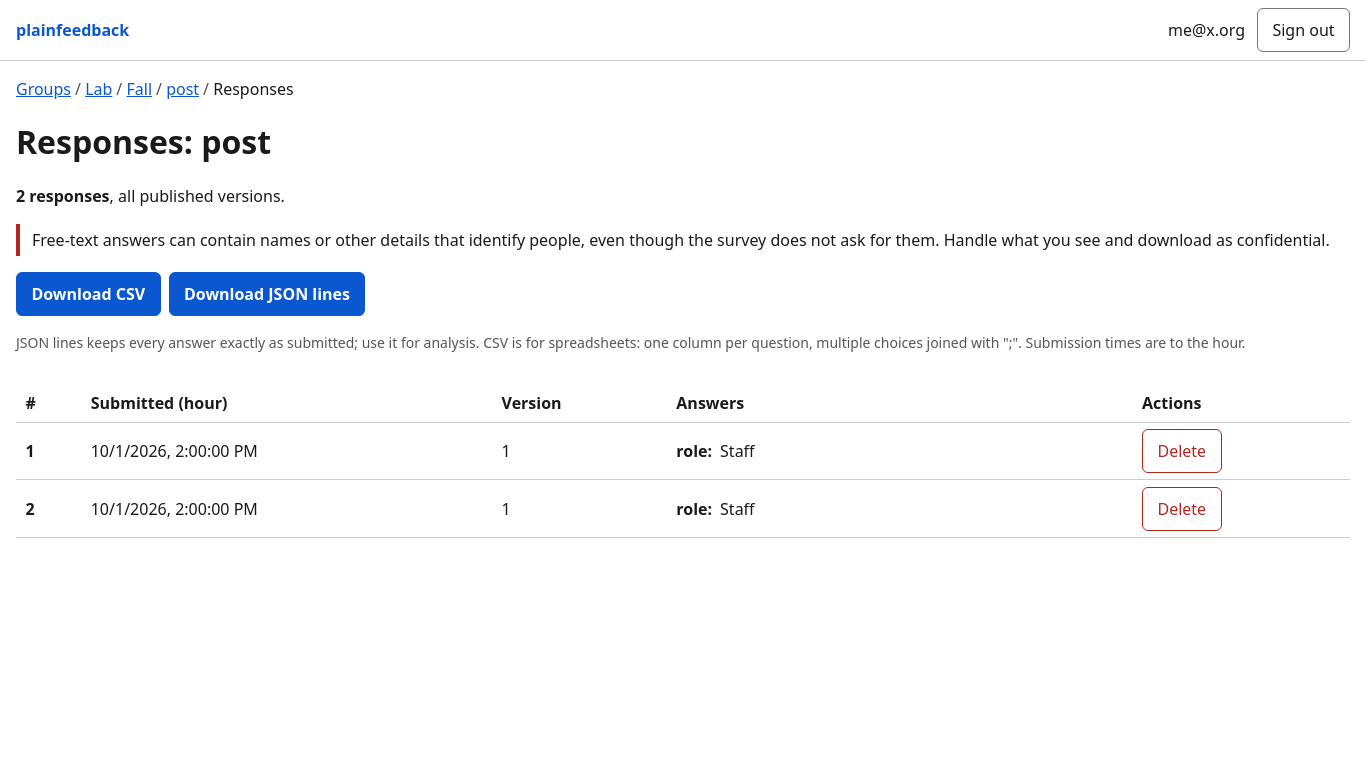
responses page (#50) › an owner deletes one response after confirming
This screenshot has width=1366, height=768.
Click the button with aria-label "Delete response 2". click: {"x": 1182, "y": 509}
box: left=1142, top=487, right=1222, bottom=531
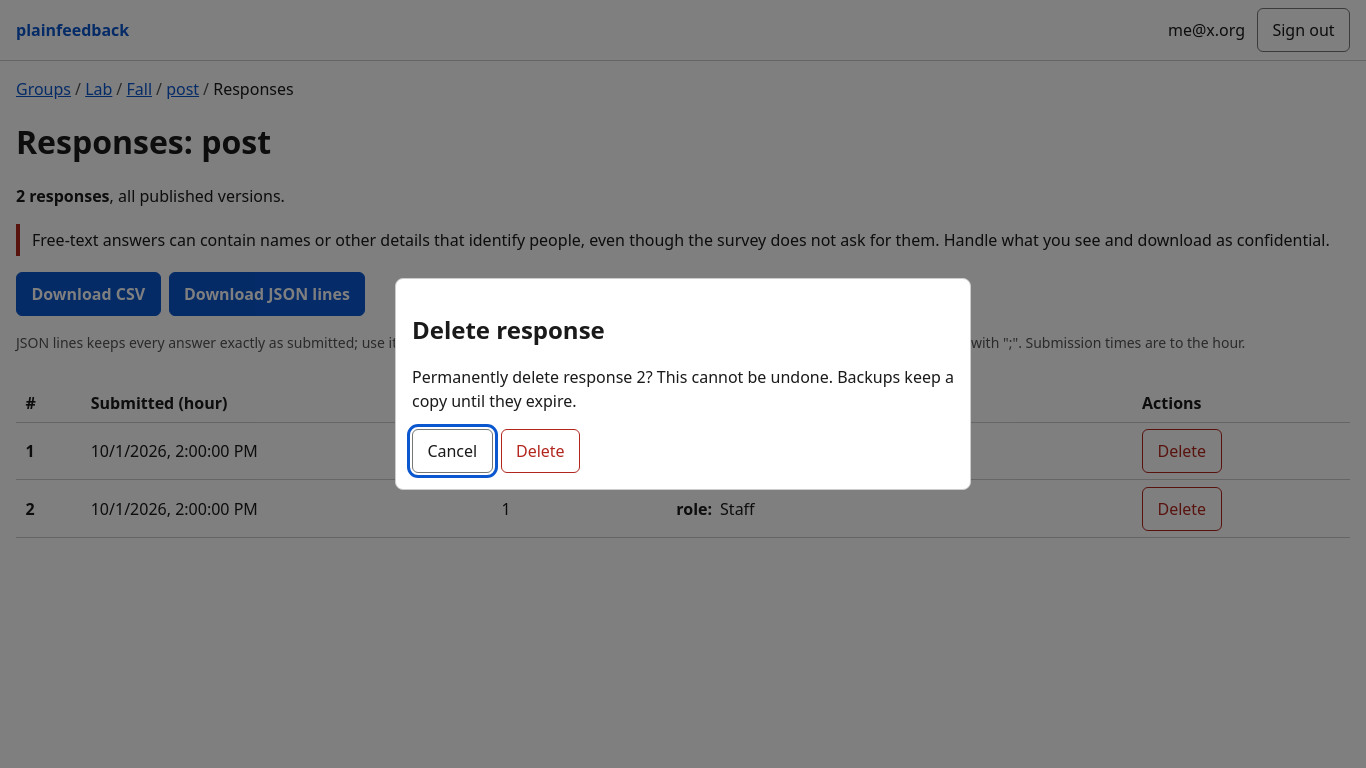
Click the button "Delete" below "Permanently delete response". click: {"x": 540, "y": 451}
box: left=501, top=429, right=580, bottom=473
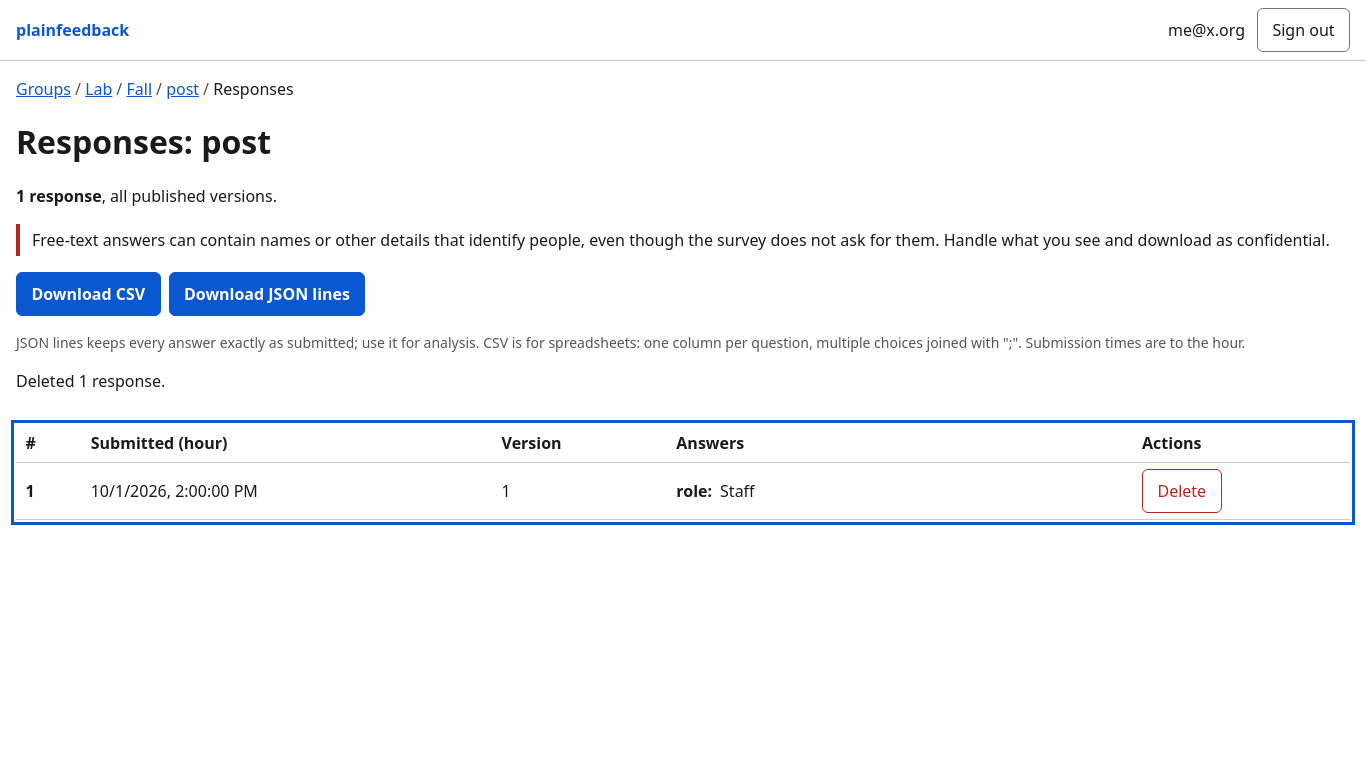
expect the text "Deleted 1 response." is shown: met, box left=16, top=370, right=165, bottom=392
expect the text "1 response" is shown: met, box left=16, top=185, right=102, bottom=207
